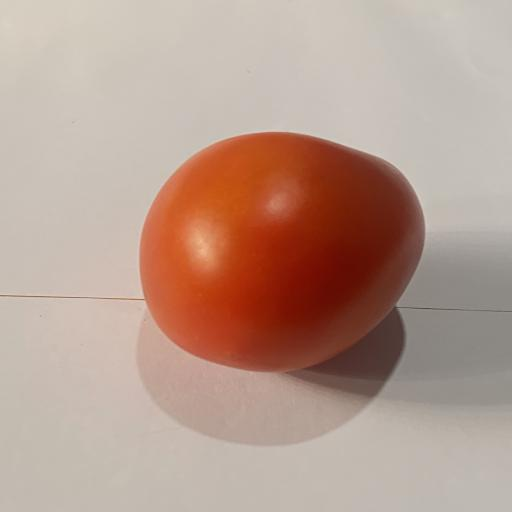ripe: (140, 132, 425, 372)
